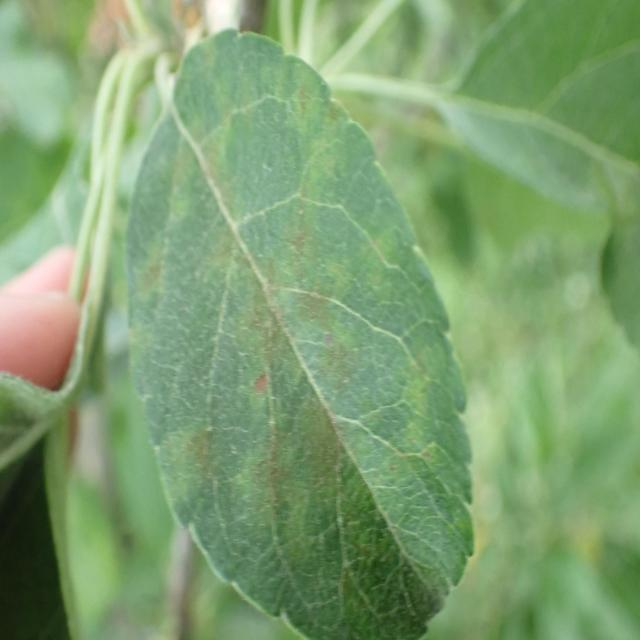scab: (136, 38, 450, 634)
